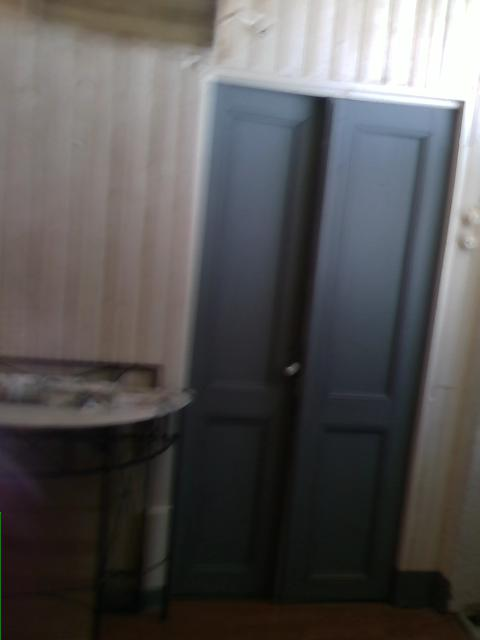door: (158, 73, 473, 608)
